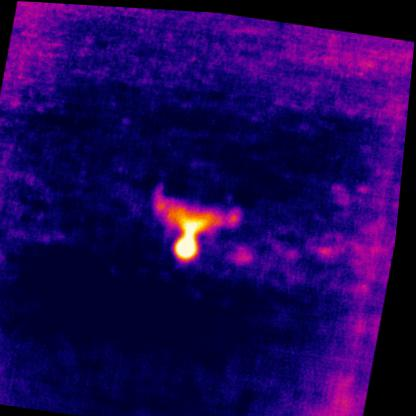drone: (144, 178, 250, 264)
